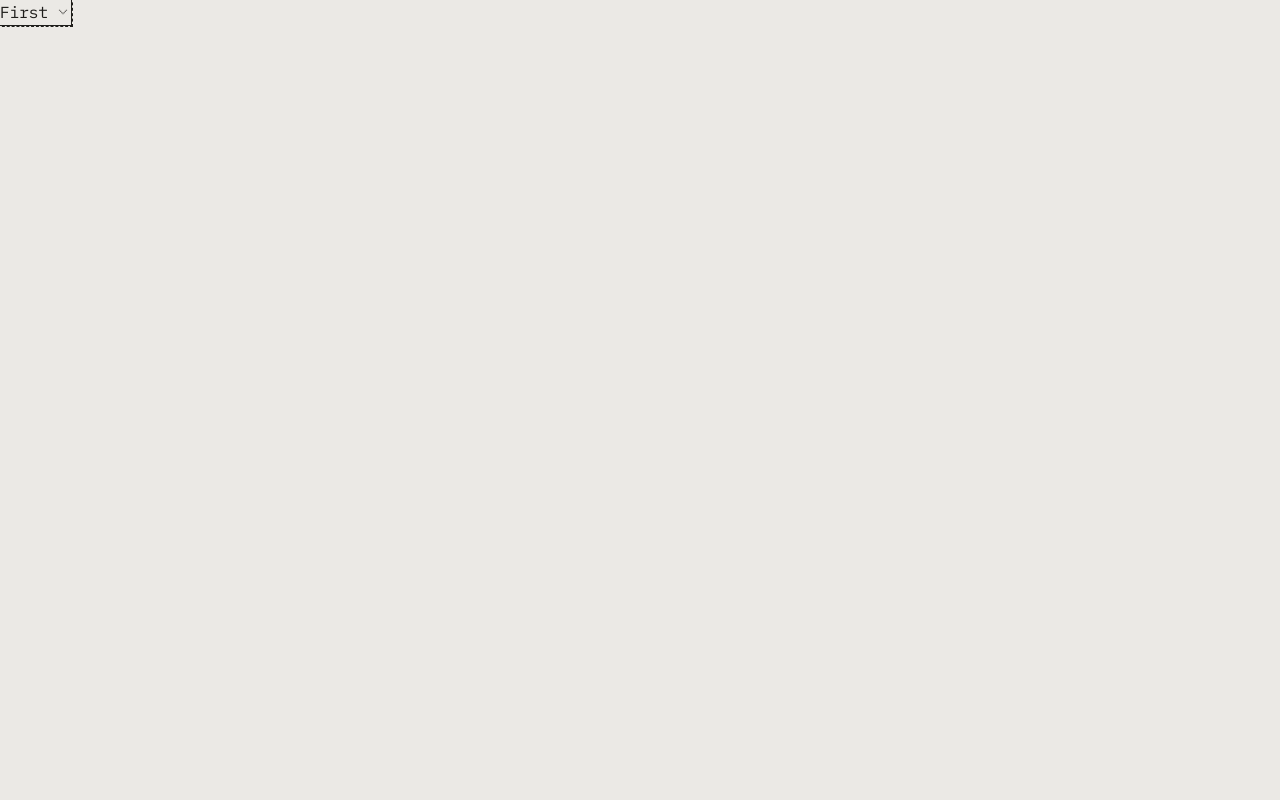
Test case: lets a non-searchable list be operated with arrow keys and Enter
The image size is (1280, 800).
Click the dropdown labelled "First" at (35, 12), box [0,0,70,24]
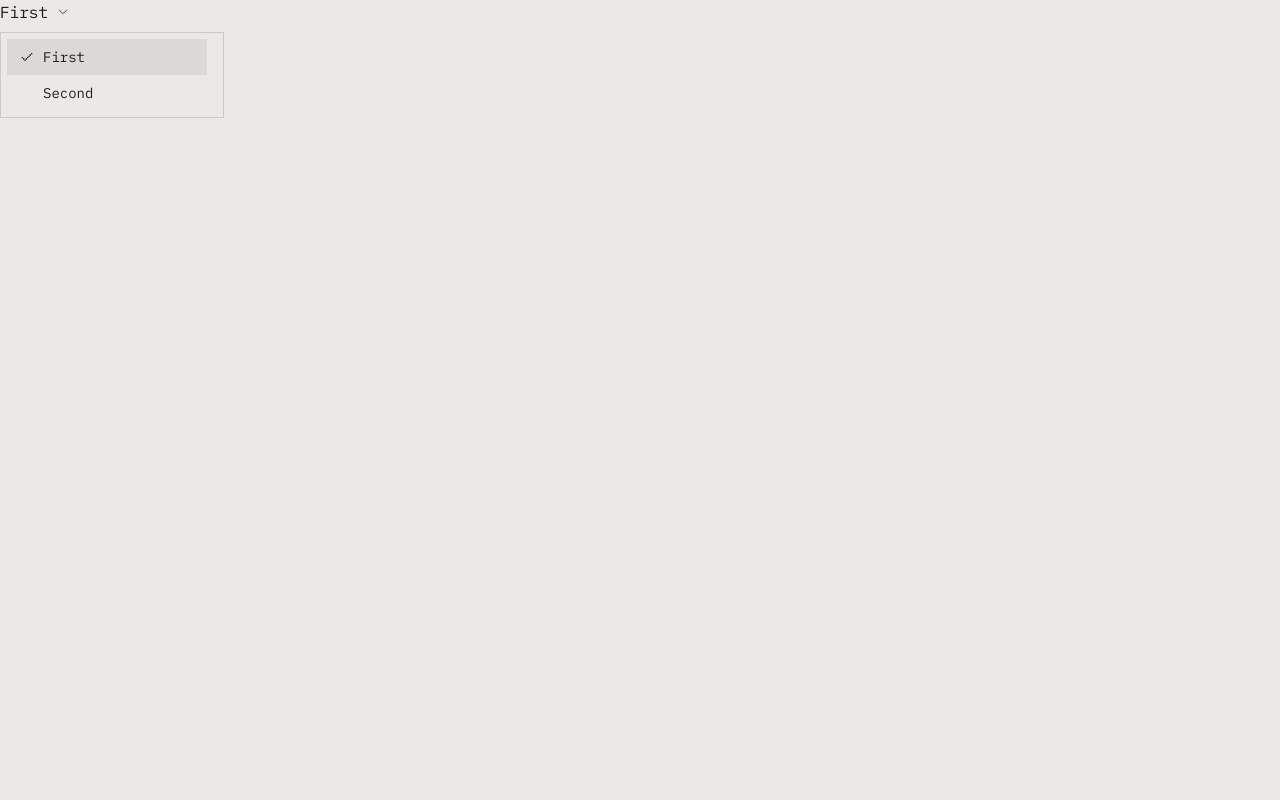
Press ArrowDown in the list, box [1,33,223,117]
Check: the option "Second" is shown, box [7,75,207,111]
Press Enter in the list, box [1,33,223,117]
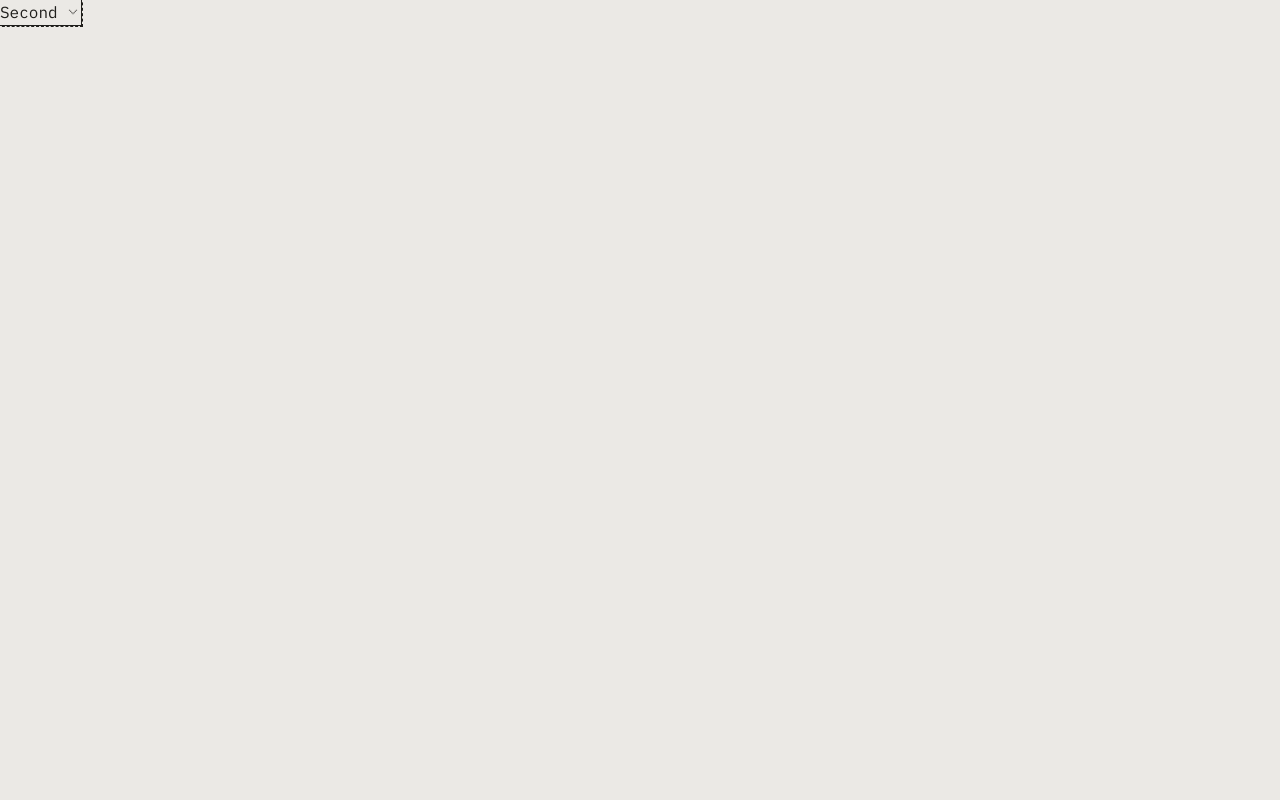
Check: the dropdown labelled "Second" is shown, box [0,0,80,24]
Check: the dropdown labelled "Second" is collapsed, box [0,0,80,24]
